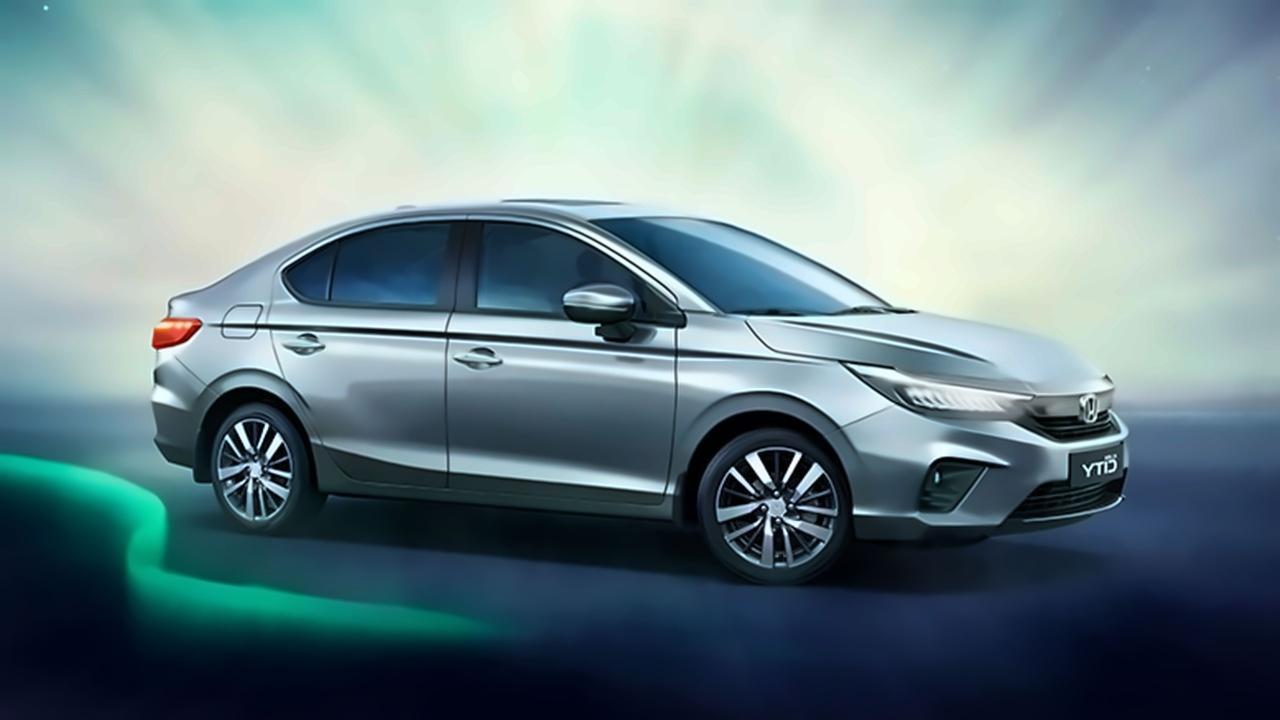Car hood: (743, 309, 1117, 394)
Driver-s door - -F-R-: (444, 207, 664, 507)
Fender - -F-R-: (667, 303, 898, 523)
Fender - -R-R-: (172, 289, 322, 490)
Front bumper: (843, 426, 1145, 545)
Headlight - -R-: (834, 359, 1037, 426)
Passenger-s door - -R-R-: (265, 207, 443, 498)
Rear bumper: (143, 350, 229, 486)
Rear light - -R-: (146, 307, 205, 358)
Side bumper - -R-: (300, 459, 698, 532)
Side mirror - -R-: (552, 270, 659, 357)
